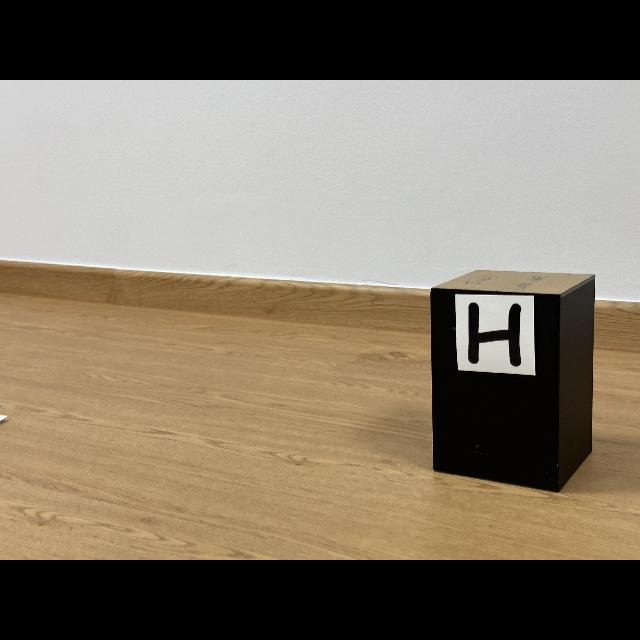H: (469, 302, 521, 366)
